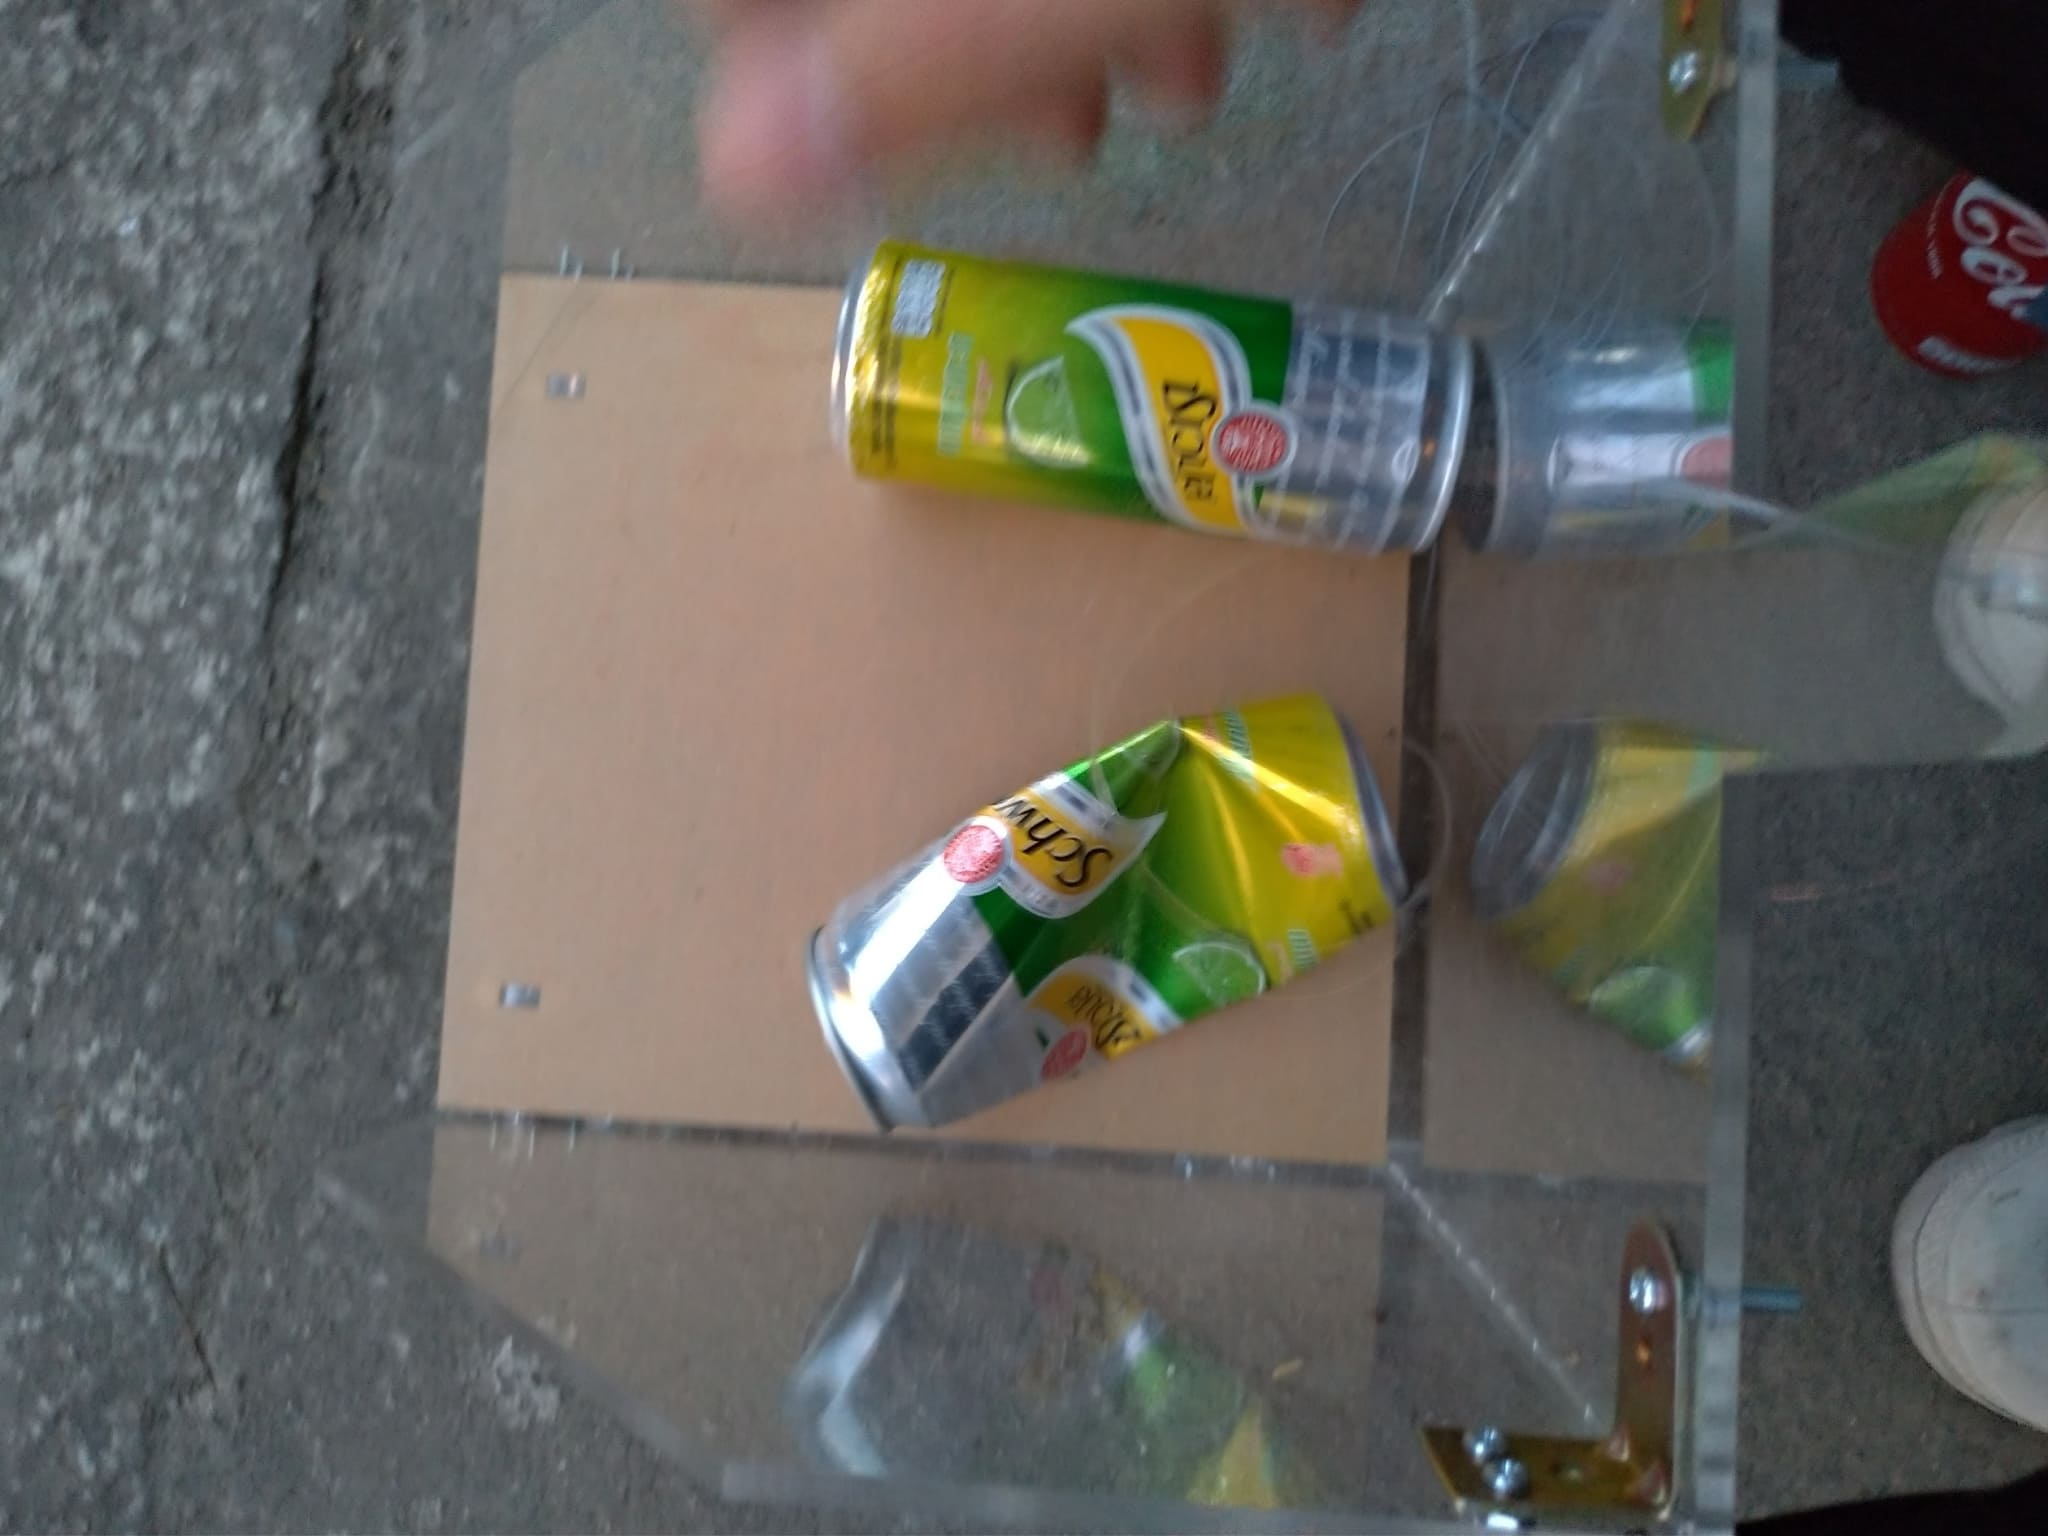AlCan: (813, 699, 1403, 1133), (826, 239, 1488, 560), (1463, 721, 1722, 1076), (1484, 336, 1738, 545), (1875, 148, 2045, 386)
